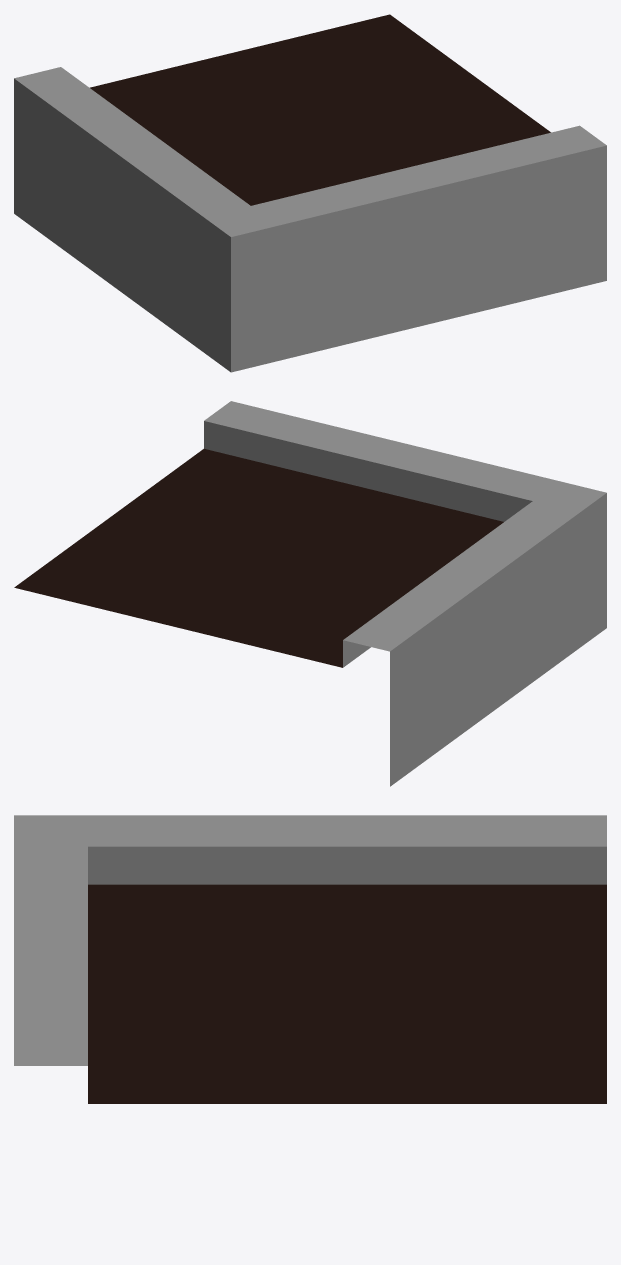
Rendered from Planter_Corner.FBX.
3 views of the same model, one above another, from view 1: azimuth 30°, elevation 25°; view 2: azimuth 150°, elevation 25°; view 3: azimuth 270°, elevation 25° (orthographic). The views are drawn at different scales.
Visible parts, largest first — view 1: Planter_Corner; view 2: Planter_Corner; view 3: Planter_Corner.
Boxes of the visible parts, <box> form: Planter_Corner: <box>14,14,606,372</box>; Planter_Corner: <box>14,401,606,786</box>; Planter_Corner: <box>14,815,606,1103</box>.
Size of the model in its own units: 12.5 by 4.3 by 12.5.
